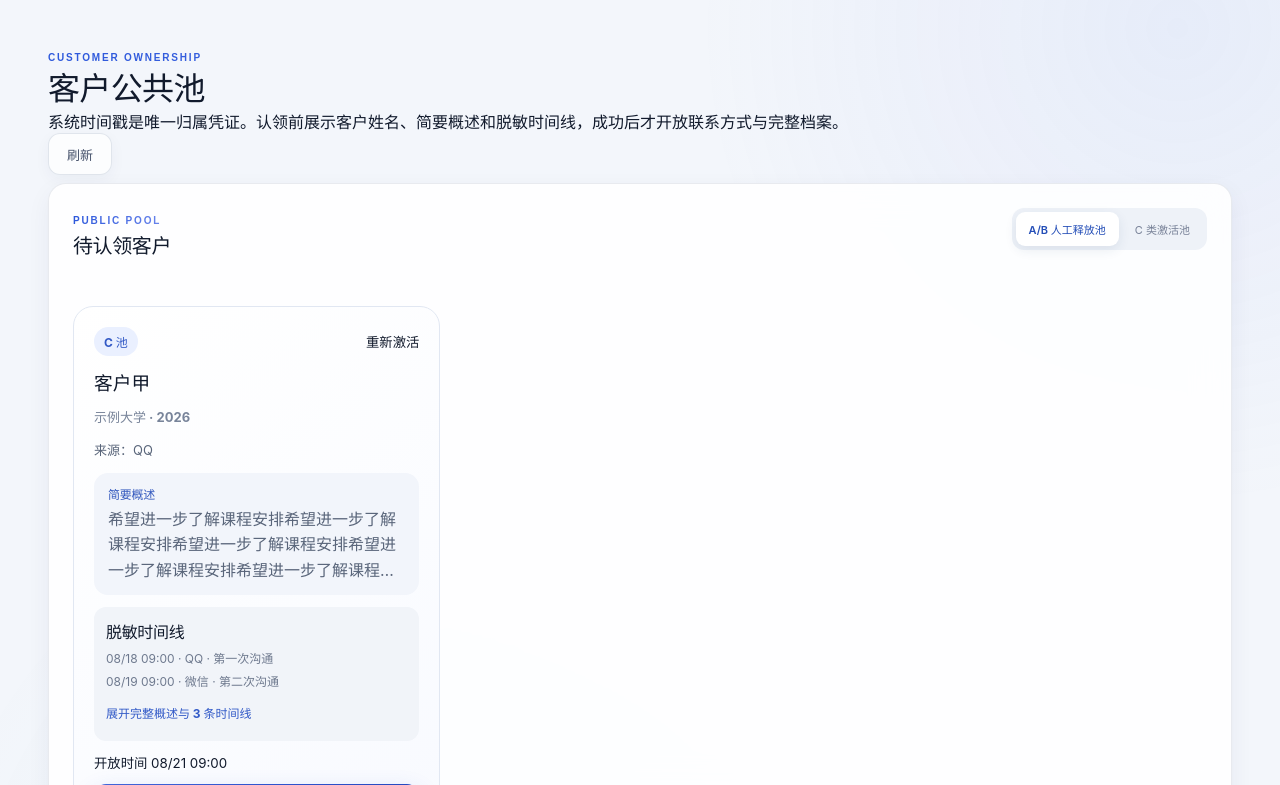
Test: customer and AI mobile disclosures › shows only the first two masked timeline entries until the user expands a pool card
Click the button with class "content-toggle": click(179, 712) [106,695,251,729]
(page scrolled)
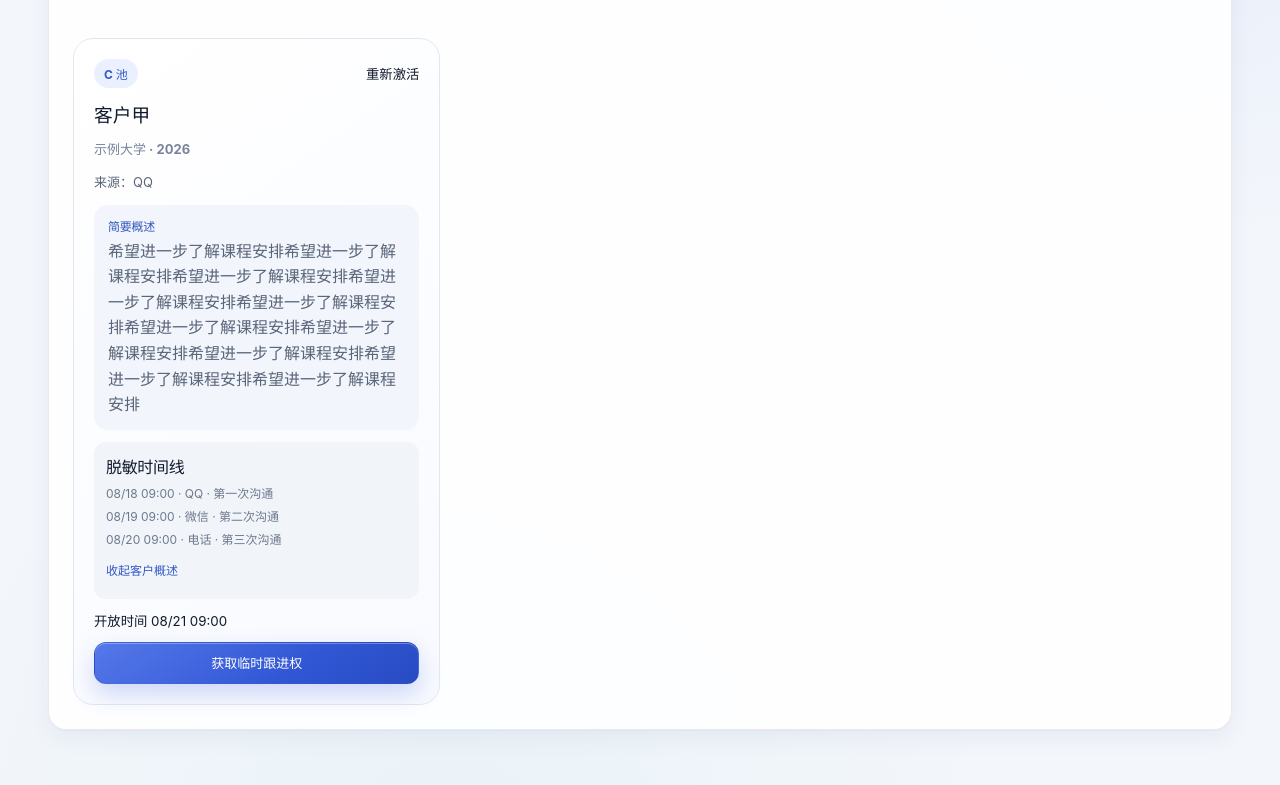
Check: the button with class "content-toggle" is expanded, box [106,553,178,587]
